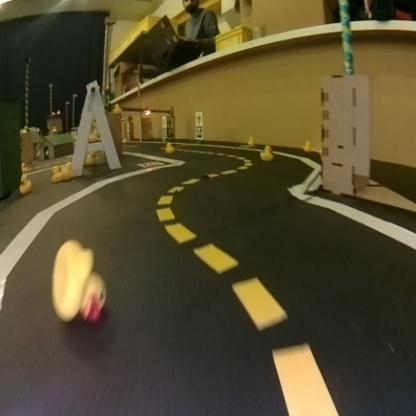duckie: (41, 227, 121, 349), (256, 141, 283, 166), (15, 169, 35, 196), (45, 159, 60, 183), (164, 134, 180, 156), (301, 134, 316, 157), (243, 129, 259, 148)
